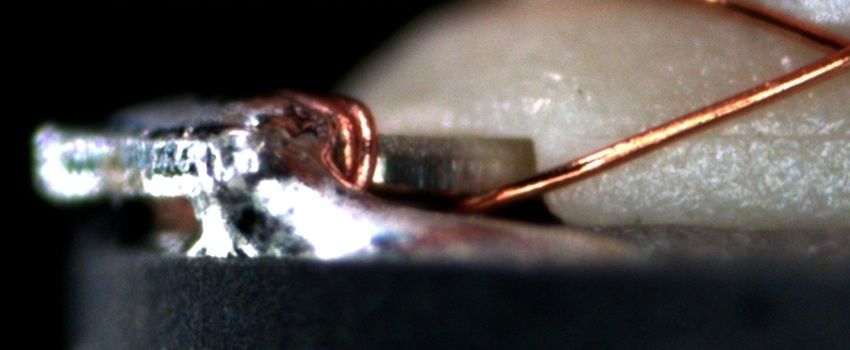CL: (804, 18, 850, 77)
DL: (709, 106, 849, 161)
TE: (279, 87, 389, 193)
